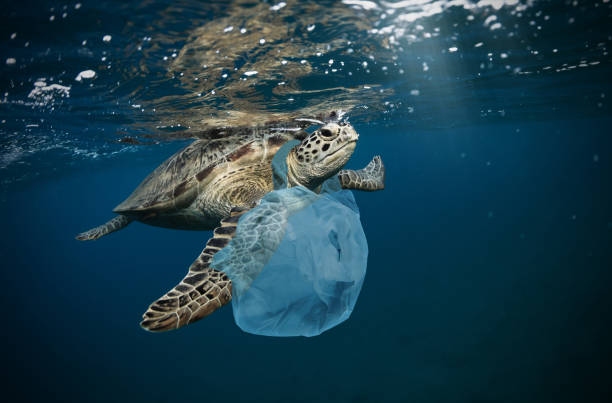papel: (211, 179, 389, 340)
